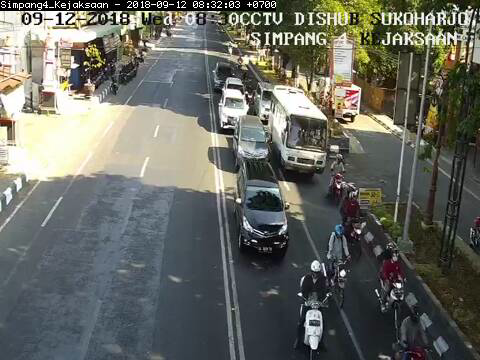motor: (295, 257, 331, 359), (374, 239, 410, 331), (325, 223, 352, 311), (339, 182, 369, 254), (328, 152, 345, 203)
